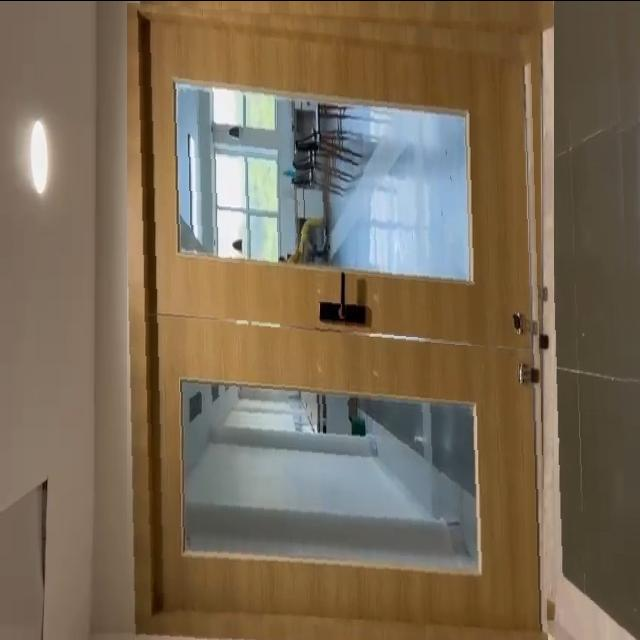door: (127, 0, 549, 640)
floor: (554, 0, 640, 640)
